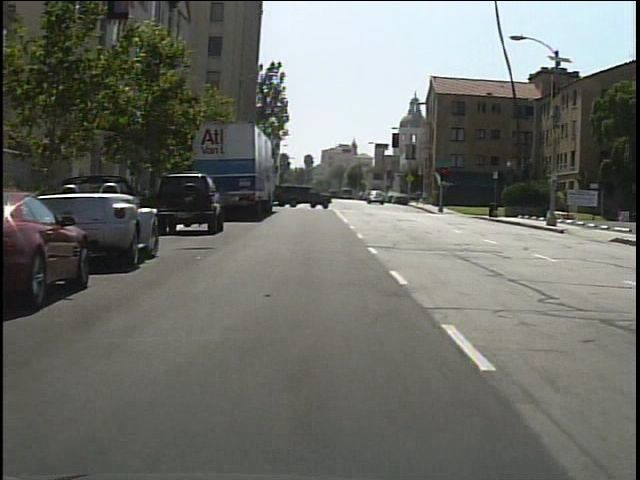person: (414, 188, 423, 210)
